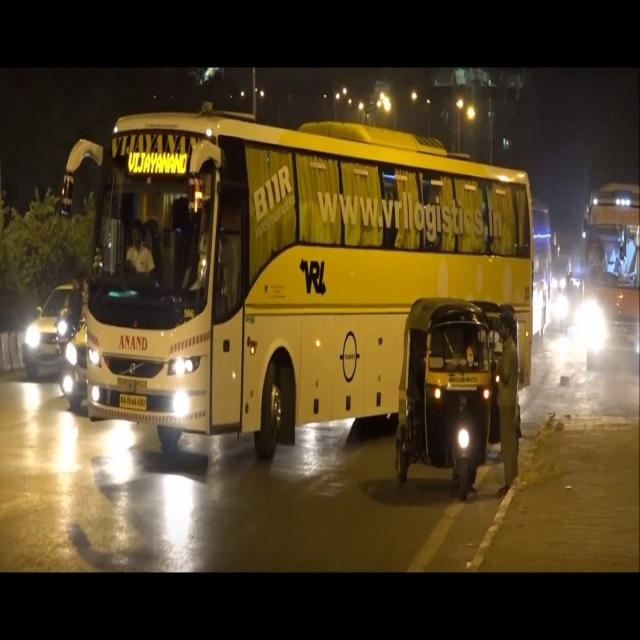autorickshaw: (396, 298, 490, 500)
bus: (63, 107, 532, 458), (582, 182, 640, 376)
